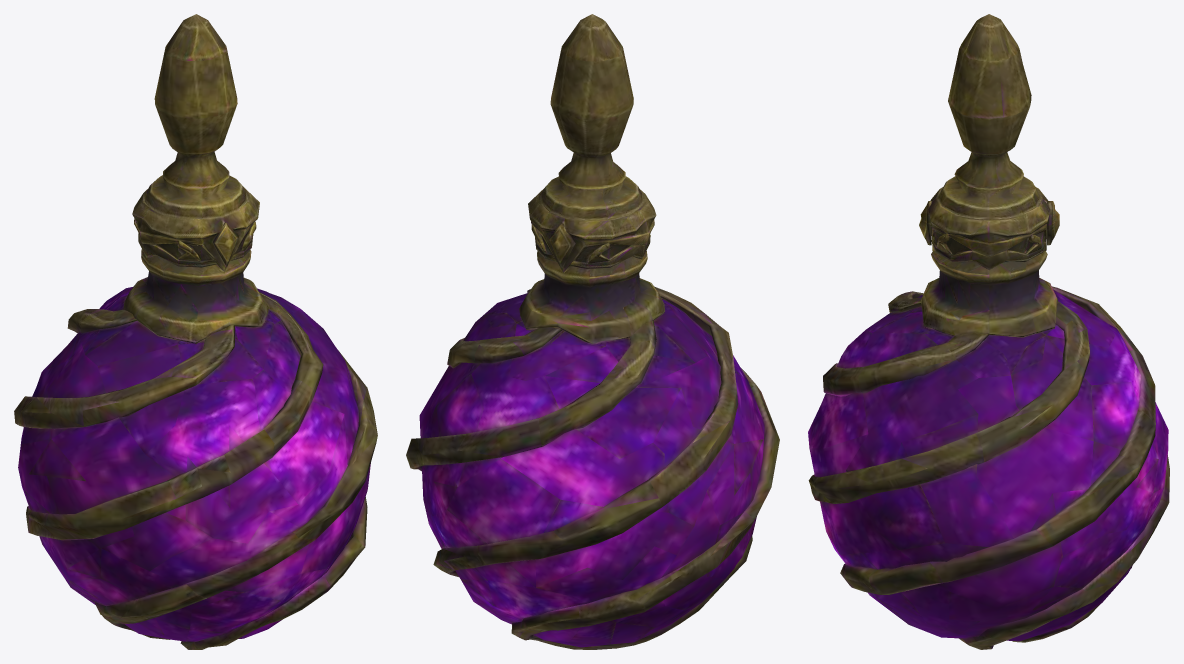
Rendered from embibe-potion-purple.glb.
The picture shows the model from 3 angles, left to right: view 1: azimuth 30°, elevation 25°; view 2: azimuth 150°, elevation 25°; view 3: azimuth 270°, elevation 25°; orthographic projection.
Size of the model in its own units: 0.4961 by 0.9517 by 0.5005.
Materials: 1 (1 with a texture image).
